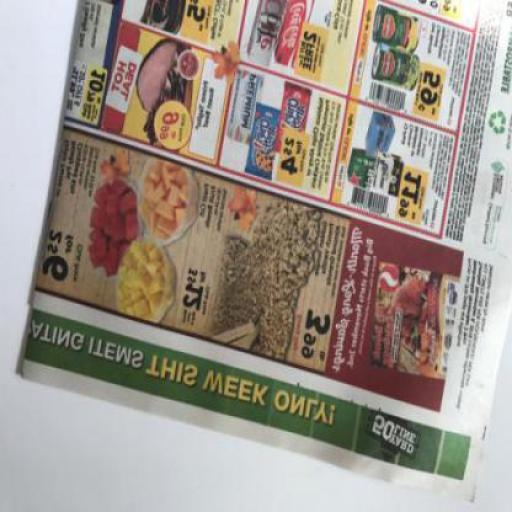paper: (21, 0, 511, 503)
